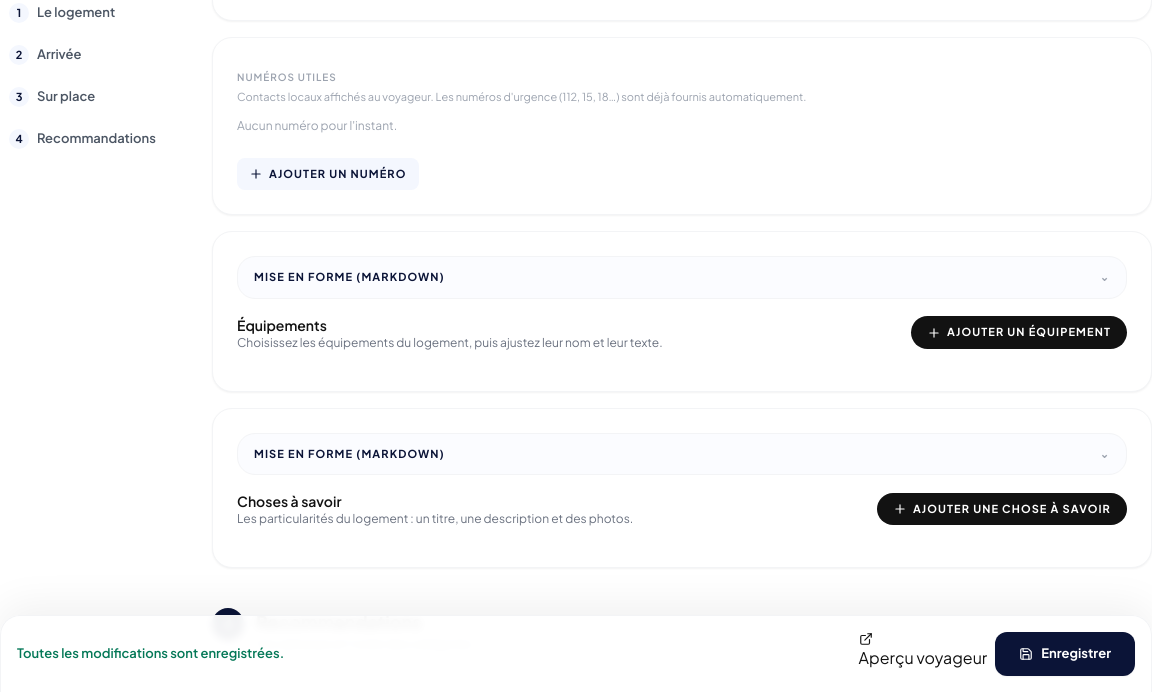
Test: CustomizationForm — practical blocks payload › 083 : un équipement sans nom est signalé sous le champ et rien n’est envoyé
(page scrolled)
Click the button "Ajouter un équipement" at [1019, 333], box [911,316,1127,349]
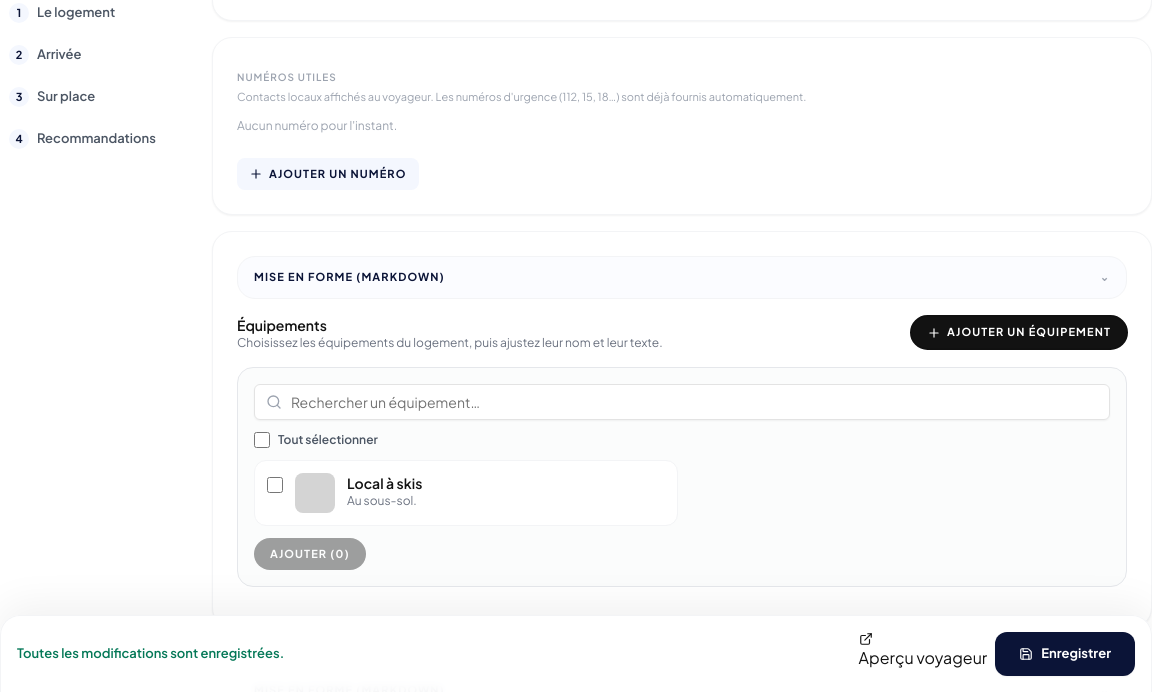
Click the checkbox labelled "Local à skis Au sous-sol." at [275, 484], box [267,476,283,492]
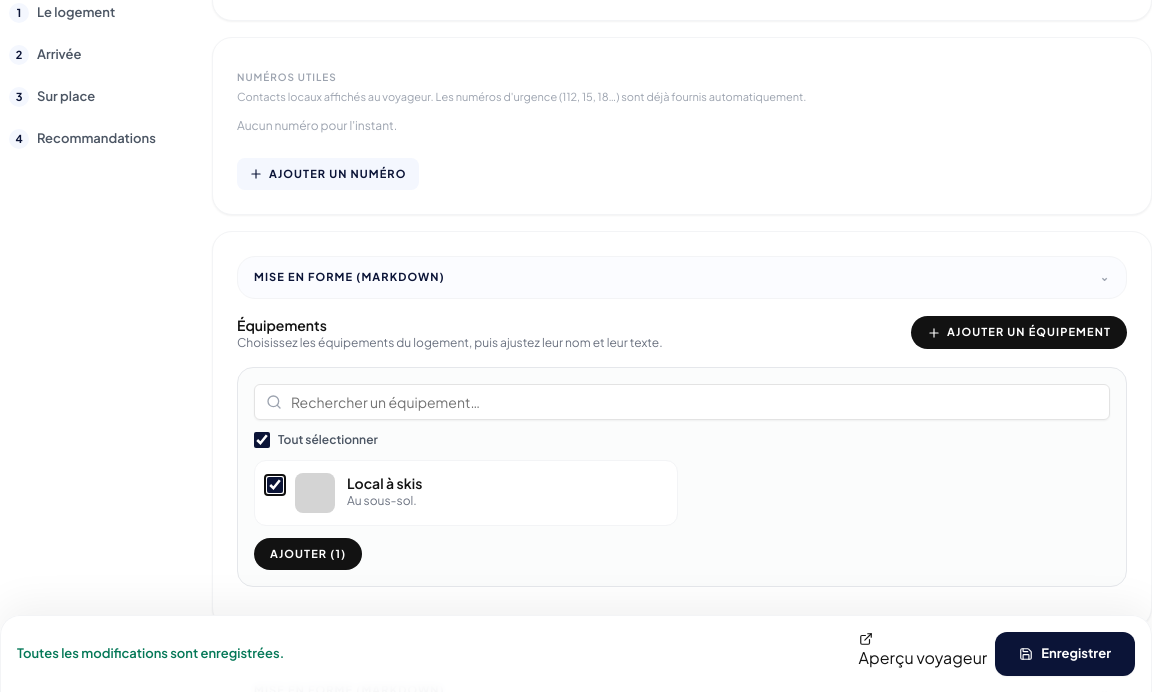
Click the button "Ajouter (1)" at [308, 554], box [254,538,362,570]
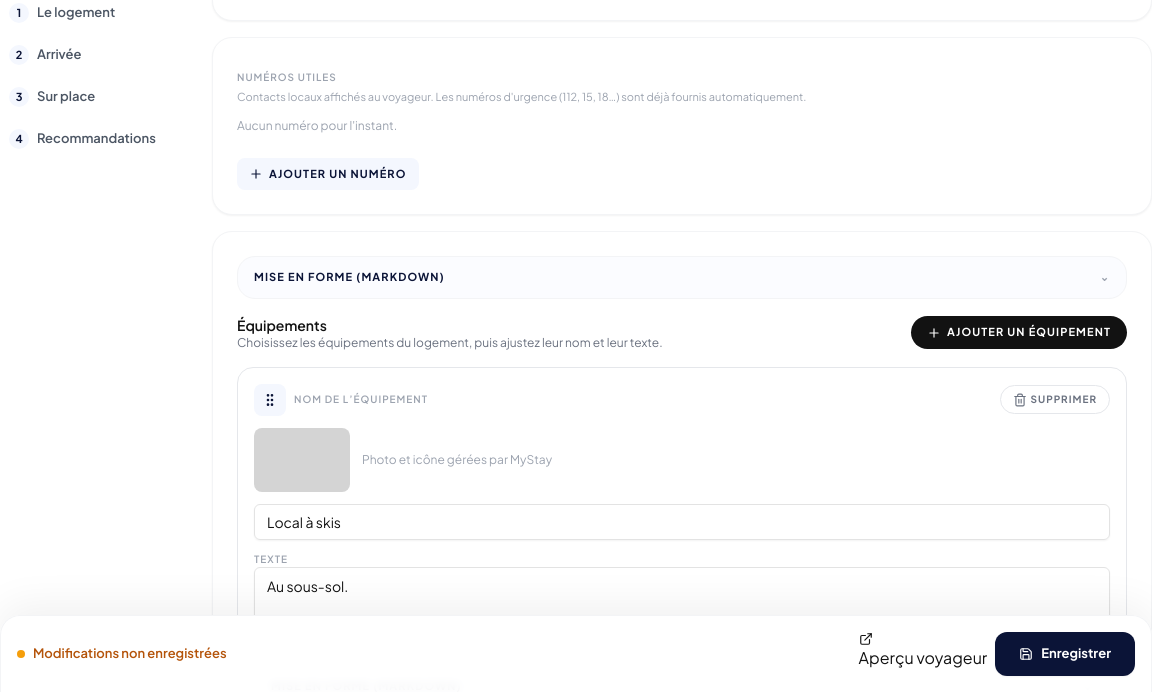
Clear the field labelled "Nom de l’équipement" at [682, 522], box [254,504,1110,540]
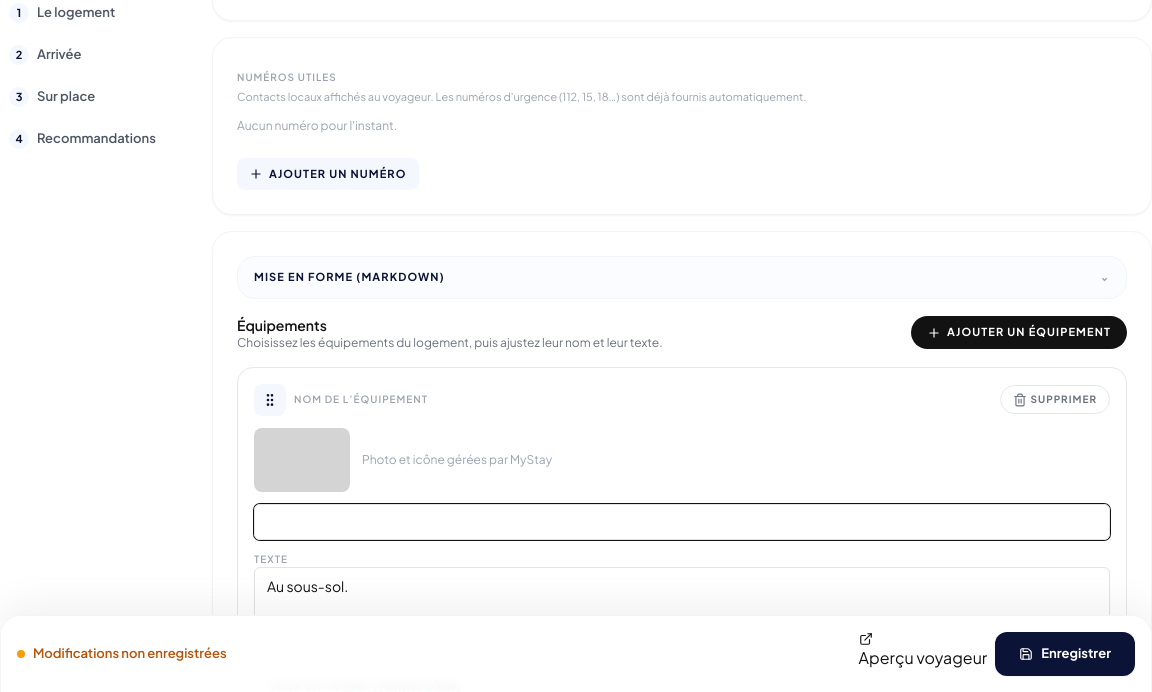
Click the button "Enregistrer" at [1065, 654], box [995,632,1135,676]
(page scrolled)
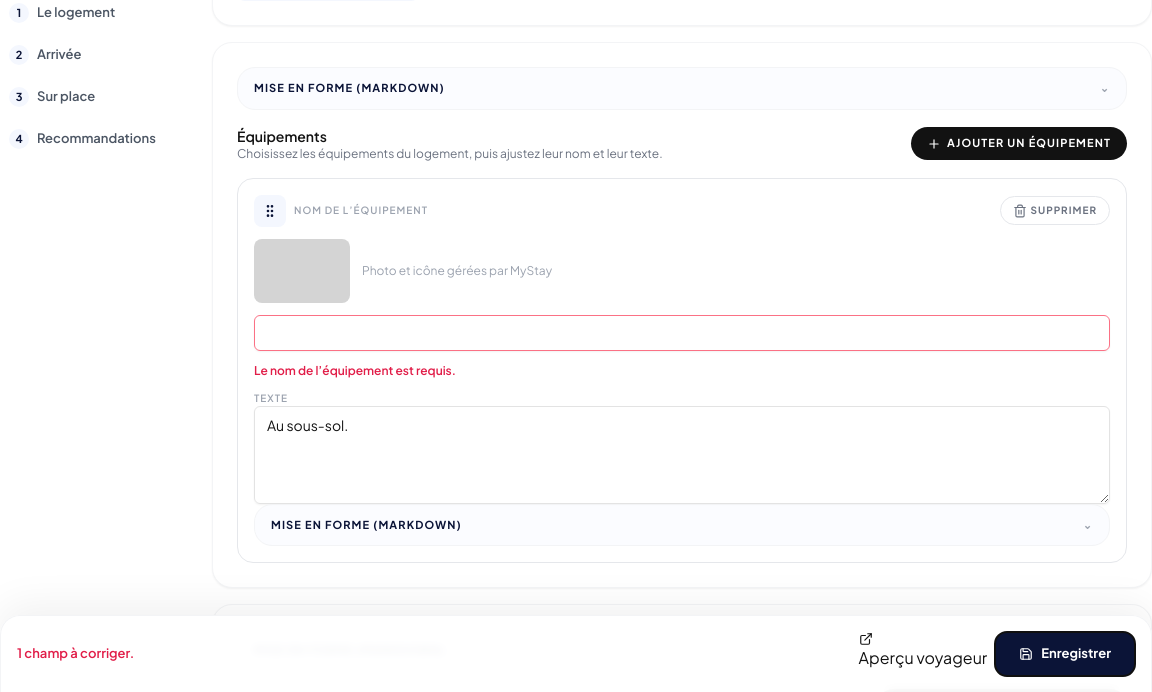
Expected: the text "Le nom de l’équipement est requis." is shown, [254,362,456,378]
Expected: the message named "État de l’enregistrement" reads "1 champ à corriger.", [17,645,134,661]
Type "La plage" into the field labelled "Nom de l’équipement" at [682, 332], box [254,314,1110,350]
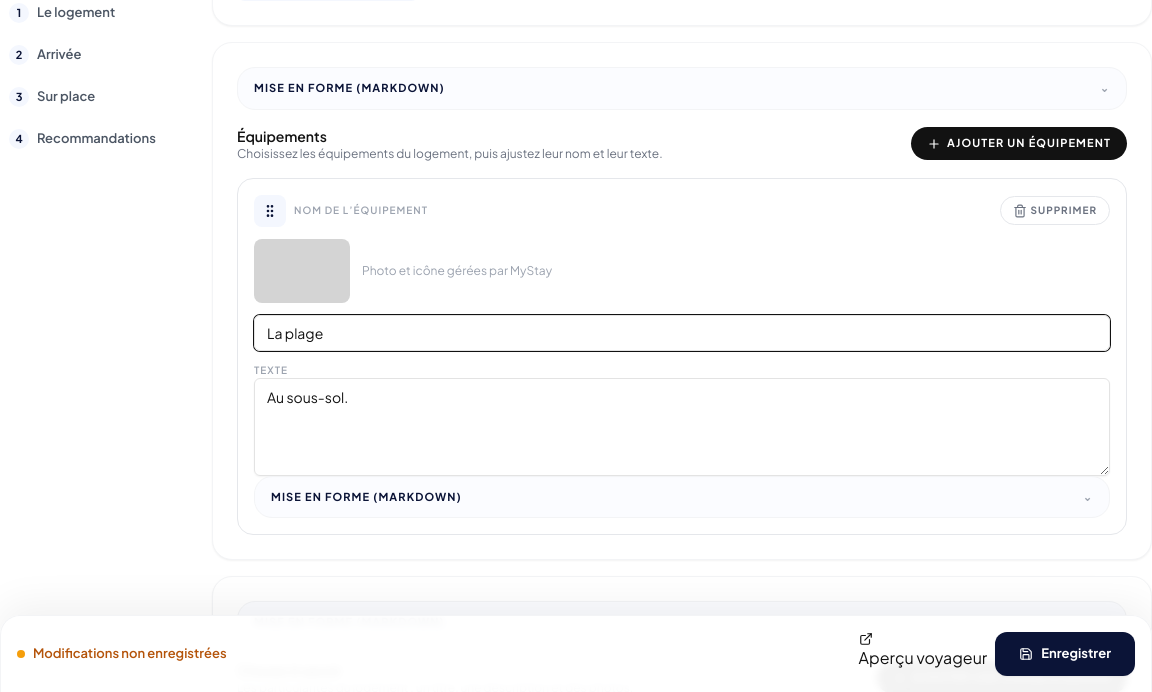
Expected: the text "Le nom de l’équipement est requis." is gone
